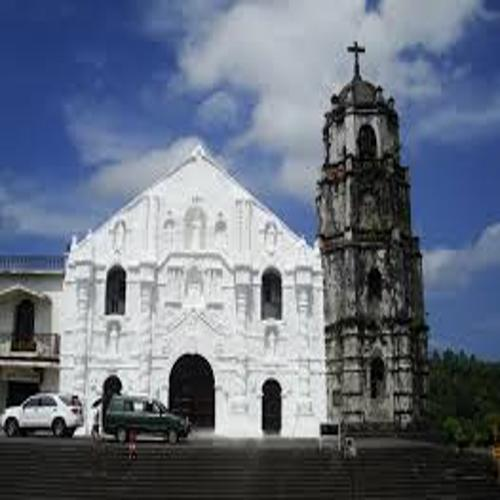Daraga Church: (54, 42, 437, 449)
